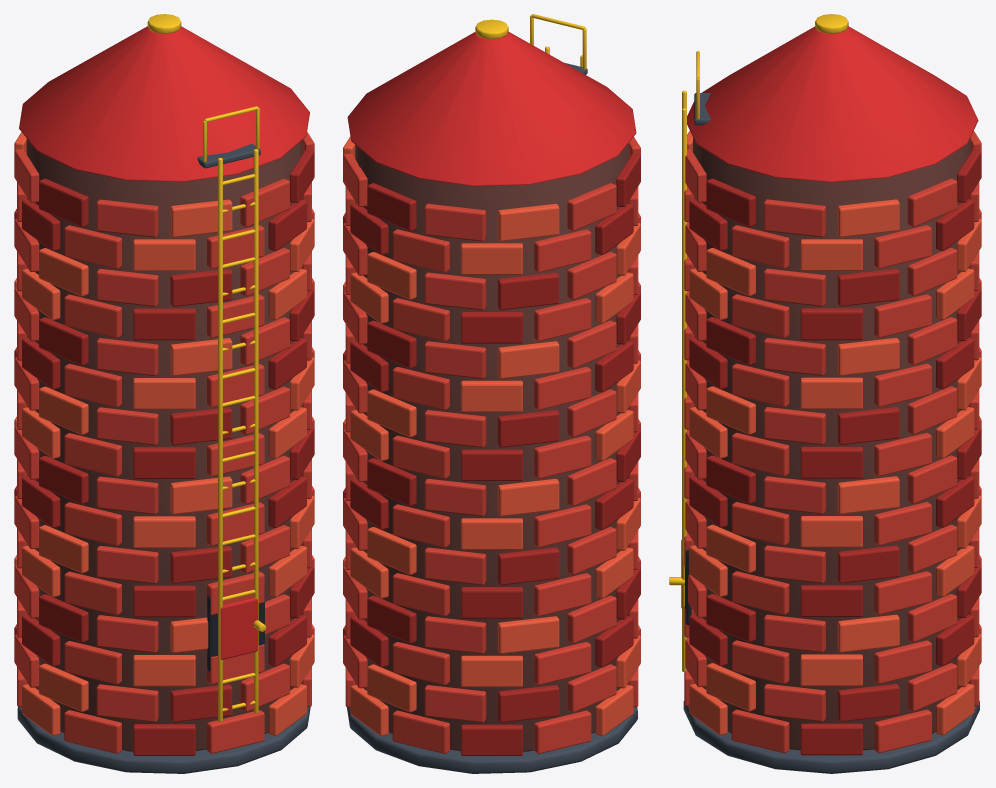
Rendered from FTF_Building_GrainSilo_Round_4x4x10m.glb.
The picture shows the model from 3 angles, left to right: view 1: azimuth 30°, elevation 25°; view 2: azimuth 150°, elevation 25°; view 3: azimuth 270°, elevation 25°; orthographic projection.
Parts seen in each view (by area): view 1: Silo_MortarCore, Silo_ConicalRoof, Silo_Base, Ladder_Rail_L, Ladder_Rail_R, Brick_R04_07, Brick_R12_07, Brick_R06_07, Hatch_Red_Panel, Brick_R07_07, Brick_R15_07, Brick_R01_07 (+85 smaller); view 2: Silo_MortarCore, Silo_ConicalRoof, Silo_Base, Brick_R02_11, Brick_R10_11, Brick_R15_10, Brick_R15_11, Brick_R01_10, Brick_R01_11, Brick_R03_10, Brick_R03_11, Brick_R07_11 (+80 smaller); view 3: Silo_MortarCore, Silo_ConicalRoof, Silo_Base, Ladder_Rail_R, Brick_R00_03, Brick_R02_03, Brick_R10_03, Brick_R12_03, Brick_R08_03, Brick_R15_02, Brick_R05_02, Brick_R13_02 (+81 smaller).
Part boxes in pixels (bbox=[...]): Silo_MortarCore: bbox=[26, 138, 302, 751]; Silo_ConicalRoof: bbox=[19, 26, 309, 181]; Silo_Base: bbox=[17, 706, 310, 773]; Ladder_Rail_L: bbox=[218, 157, 222, 722]; Ladder_Rail_R: bbox=[253, 149, 258, 713]; Brick_R04_07: bbox=[133, 585, 195, 617]; Brick_R12_07: bbox=[133, 308, 195, 340]; Brick_R06_07: bbox=[133, 516, 195, 548]; Hatch_Red_Panel: bbox=[220, 598, 257, 659]; Brick_R07_07: bbox=[96, 476, 158, 514]; Brick_R15_07: bbox=[96, 199, 158, 237]; Brick_R01_07: bbox=[96, 684, 158, 722]; Silo_MortarCore: bbox=[355, 143, 628, 751]; Silo_ConicalRoof: bbox=[347, 32, 636, 186]; Silo_Base: bbox=[347, 707, 637, 773]; Brick_R02_11: bbox=[461, 655, 522, 687]; Brick_R10_11: bbox=[461, 380, 522, 412]; Brick_R15_10: bbox=[497, 203, 559, 241]; Brick_R15_11: bbox=[424, 203, 486, 241]; Brick_R01_10: bbox=[497, 685, 559, 722]; Brick_R01_11: bbox=[424, 685, 486, 722]; Brick_R03_10: bbox=[497, 616, 559, 653]; Brick_R03_11: bbox=[424, 616, 486, 653]; Brick_R07_11: bbox=[424, 478, 486, 516]; Silo_MortarCore: bbox=[693, 138, 970, 750]; Silo_ConicalRoof: bbox=[687, 26, 978, 182]; Silo_Base: bbox=[683, 700, 979, 773]; Ladder_Rail_R: bbox=[682, 108, 686, 671]; Brick_R00_03: bbox=[800, 723, 862, 755]; Brick_R02_03: bbox=[800, 654, 862, 686]; Brick_R10_03: bbox=[800, 377, 862, 409]; Brick_R12_03: bbox=[800, 308, 862, 340]; Brick_R08_03: bbox=[800, 446, 862, 478]; Brick_R15_02: bbox=[837, 199, 899, 237]; Brick_R05_02: bbox=[837, 545, 899, 583]; Brick_R13_02: bbox=[837, 268, 899, 306].
Size of the model in its own units: 3.93 by 10 by 4.09.
